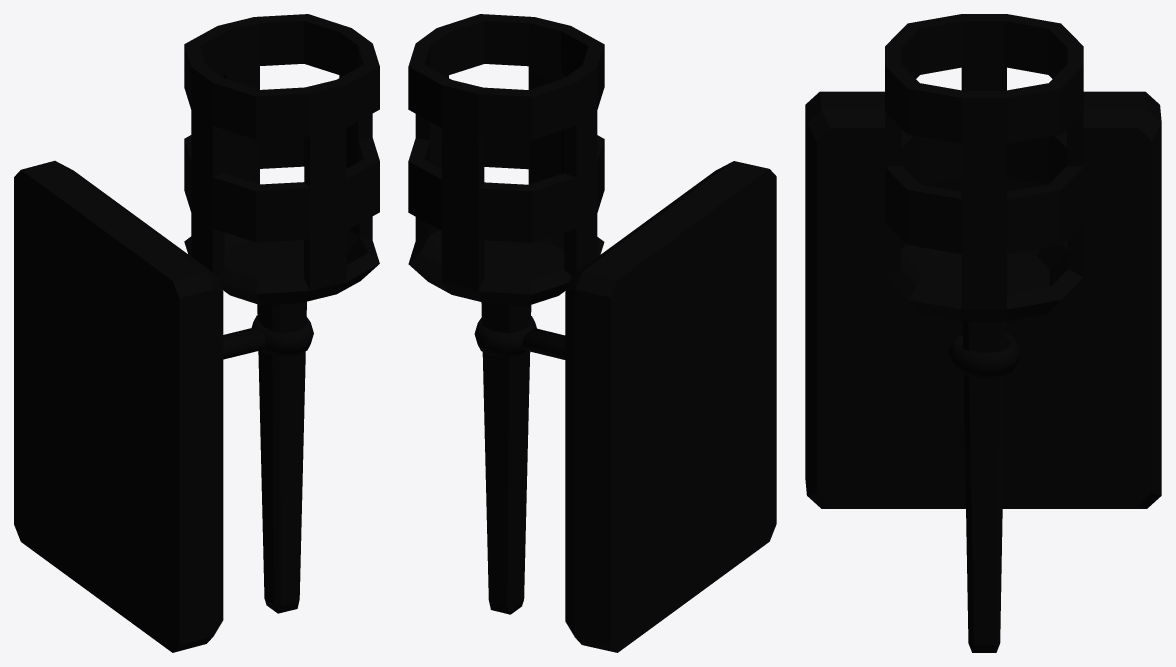
File: ChandelierMuralMedieval.fbx
3 renders of one model, left to right at view 1: azimuth 30°, elevation 25°; view 2: azimuth 150°, elevation 25°; view 3: azimuth 270°, elevation 25°, orthographic. The views are drawn at different scales.
Parts seen in each view (by area): view 1: ChandelierMuralMedieval; view 2: ChandelierMuralMedieval; view 3: ChandelierMuralMedieval.
Boxes of the visible parts, x1,y1,x2,y2 form: ChandelierMuralMedieval: (14,14,379,652); ChandelierMuralMedieval: (408,14,776,652); ChandelierMuralMedieval: (805,14,1161,652).
Size of the model in its own units: 27.94 by 55.32 by 30.2.
